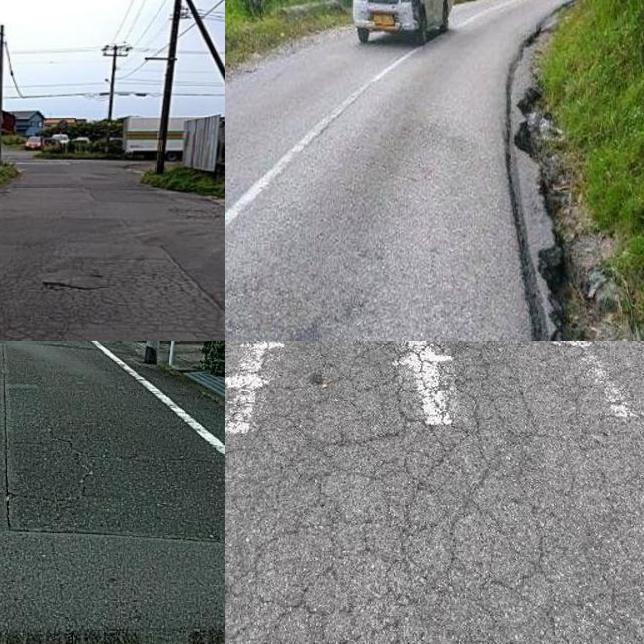Melintang: (0, 518, 225, 558)
Memanjang: (0, 341, 21, 537)
Pinggir: (490, 24, 629, 341)
Retak Buaya: (225, 341, 611, 644), (0, 246, 225, 341)
